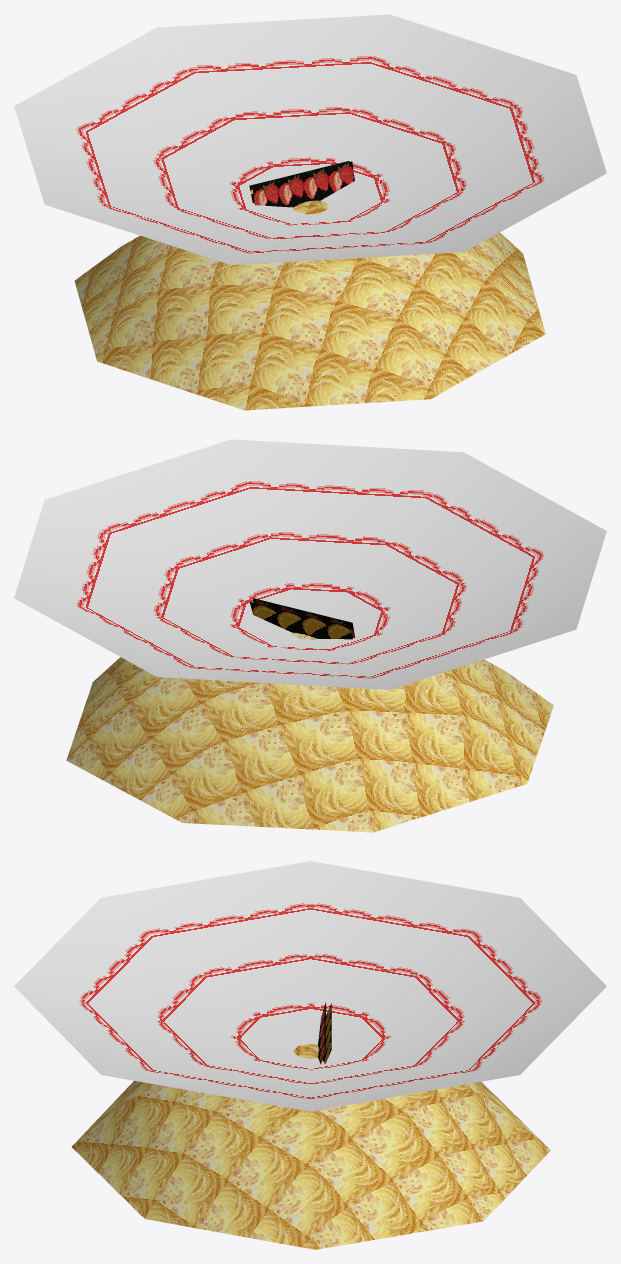
The model's file is 5554u_past00_ss.gltf.
3 renders of one model, top to bottom at view 1: azimuth 30°, elevation 25°; view 2: azimuth 150°, elevation 25°; view 3: azimuth 270°, elevation 25°, orthographic. The views are drawn at different scales.
Parts seen in each view (by area): view 1: 5554u_past00_ss; view 2: 5554u_past00_ss; view 3: 5554u_past00_ss.
Part boxes in pixels (x1,y1,x2,y2): 5554u_past00_ss: [14, 14, 606, 410]; 5554u_past00_ss: [14, 439, 606, 832]; 5554u_past00_ss: [14, 861, 606, 1249].
Bounding box in the file's own units: 0.8994 × 0.2715 × 0.8994.
Materials: 5 (5 with a texture image).
